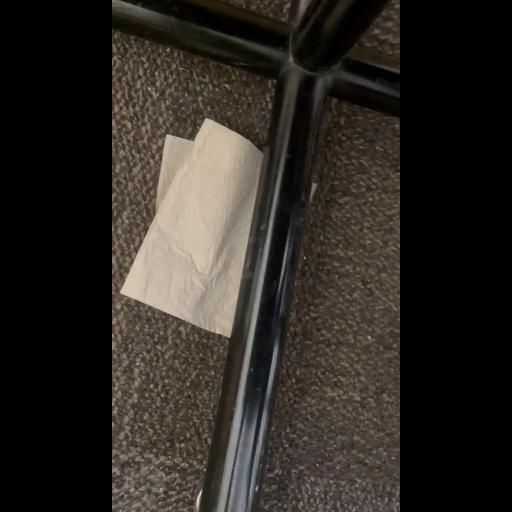napkin: (122, 110, 290, 356)
